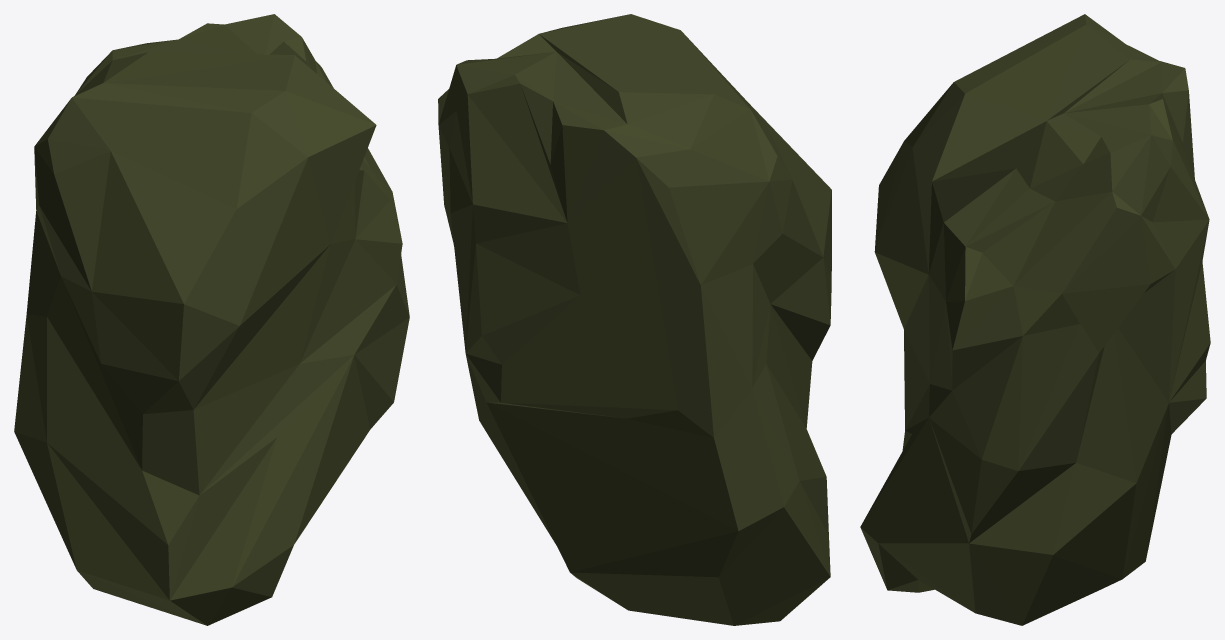
The model's file is SM_small_rock_40.fbx.
The picture shows the model from 3 angles, left to right: view 1: azimuth 30°, elevation 25°; view 2: azimuth 150°, elevation 25°; view 3: azimuth 270°, elevation 25°; orthographic projection. The views are drawn at different scales.
Visible parts, largest first — view 1: small_rock_40; view 2: small_rock_40; view 3: small_rock_40.
Boxes of the visible parts, left/top/right/bottom form: small_rock_40: left=14, top=14, right=409, bottom=625; small_rock_40: left=438, top=14, right=831, bottom=625; small_rock_40: left=860, top=14, right=1210, bottom=625.
Size of the model in its own units: 14.72 by 20.74 by 11.89.
